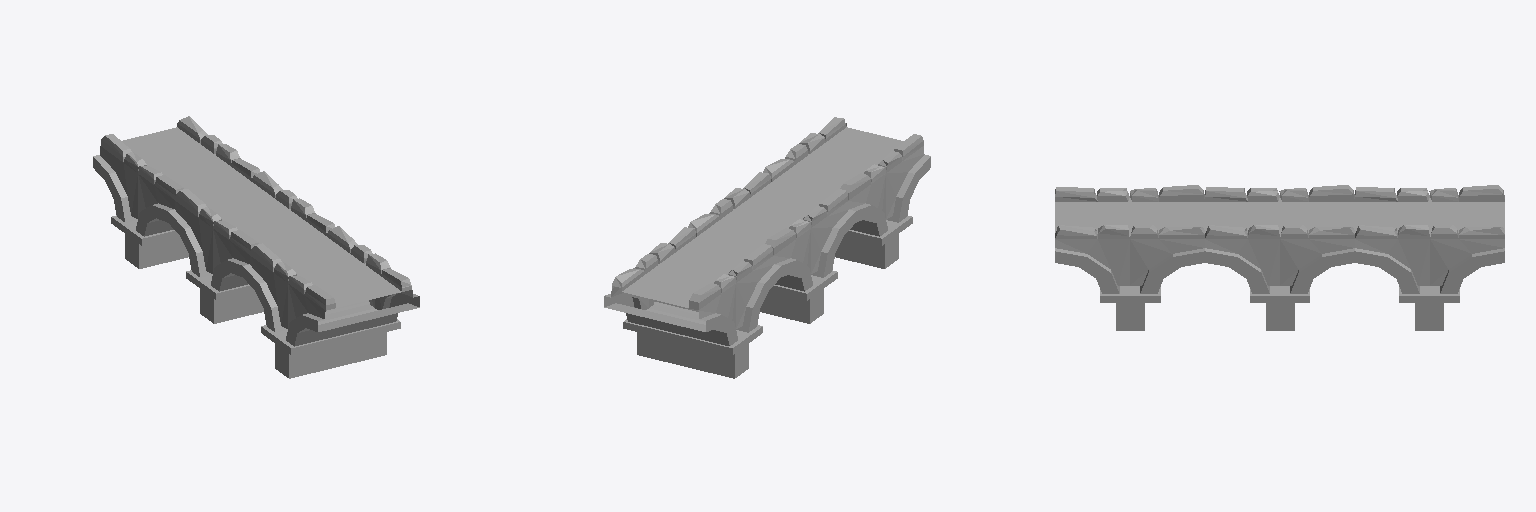
File: Bridge.obj
3 renders of one model, left to right at view 1: azimuth 30°, elevation 25°; view 2: azimuth 150°, elevation 25°; view 3: azimuth 270°, elevation 25°, orthographic.
Visible parts, largest first — view 1: Object_bridge.jpg; view 2: Object_bridge.jpg; view 3: Object_bridge.jpg.
Boxes of the visible parts, x1=… form: Object_bridge.jpg: x1=93, y1=116, x2=419, y2=378; Object_bridge.jpg: x1=604, y1=117, x2=930, y2=378; Object_bridge.jpg: x1=1055, y1=185, x2=1504, y2=330.
Size of the model in its own units: 0.7012 by 0.6231 by 2.5.